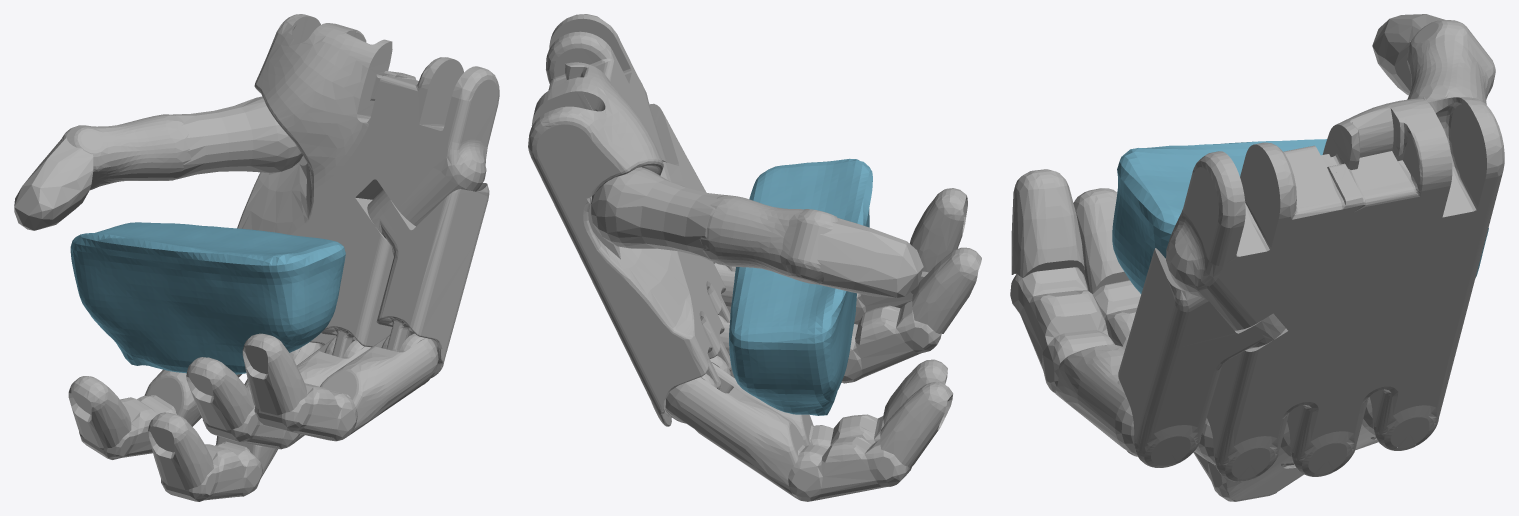
The model's file is ugg_2.glb.
3 views of the same model, side by side, from view 1: azimuth 30°, elevation 25°; view 2: azimuth 150°, elevation 25°; view 3: azimuth 270°, elevation 25° (orthographic). The views are drawn at different scales.
Parts seen in each view (by area): view 1: world; view 2: world; view 3: world.
Part boxes in pixels (x1=…): world: x1=14, y1=14, x2=499, y2=501; world: x1=528, y1=14, x2=981, y2=501; world: x1=1010, y1=14, x2=1504, y2=501.
Bounding box in the file's own units: 1.04 × 0.9098 × 0.8213.
